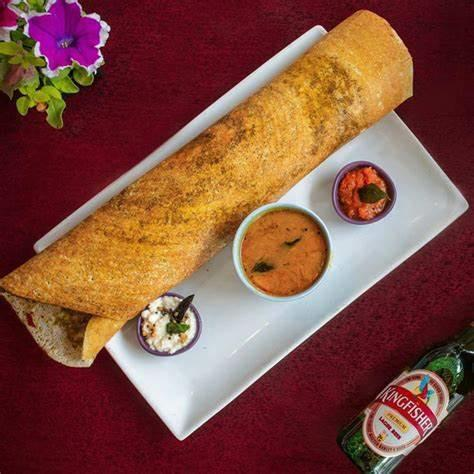CoconutChutney: (140, 296, 198, 355)
Dosa: (0, 9, 412, 367)
